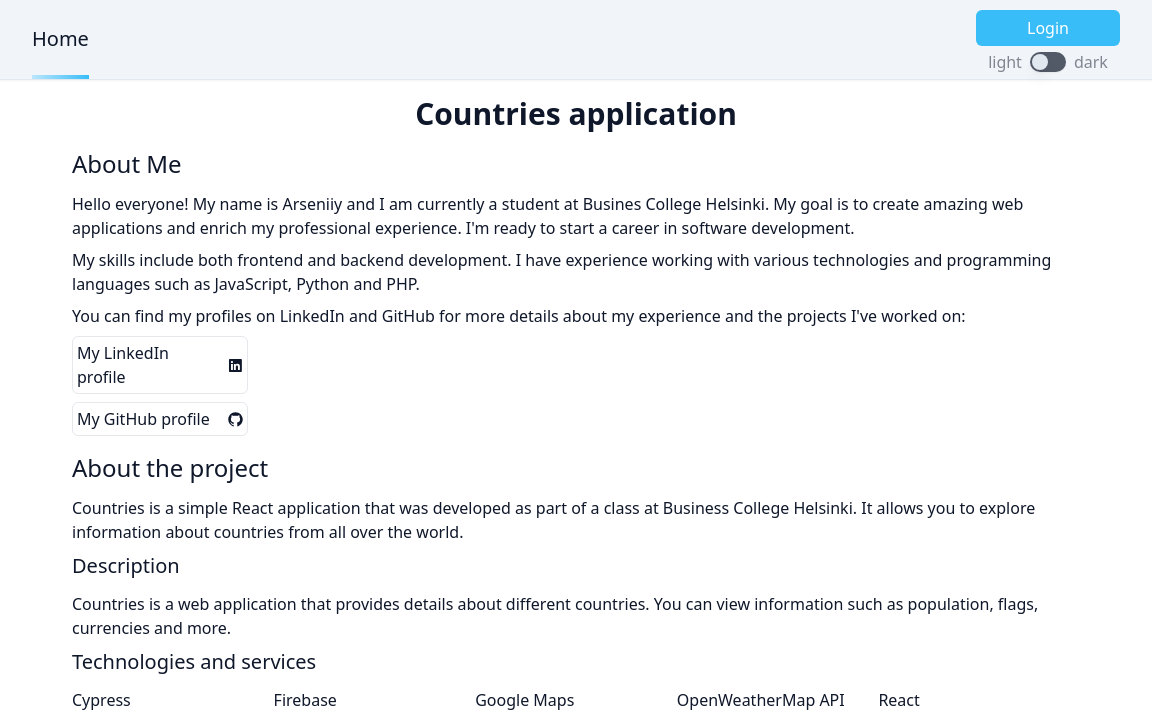
Test: Countries app for the unauthorised user › clicking on the login button opens the login page and the register button appears
Click the button with test id "login-button". click: click(1048, 28)
box: [976, 10, 1120, 46]
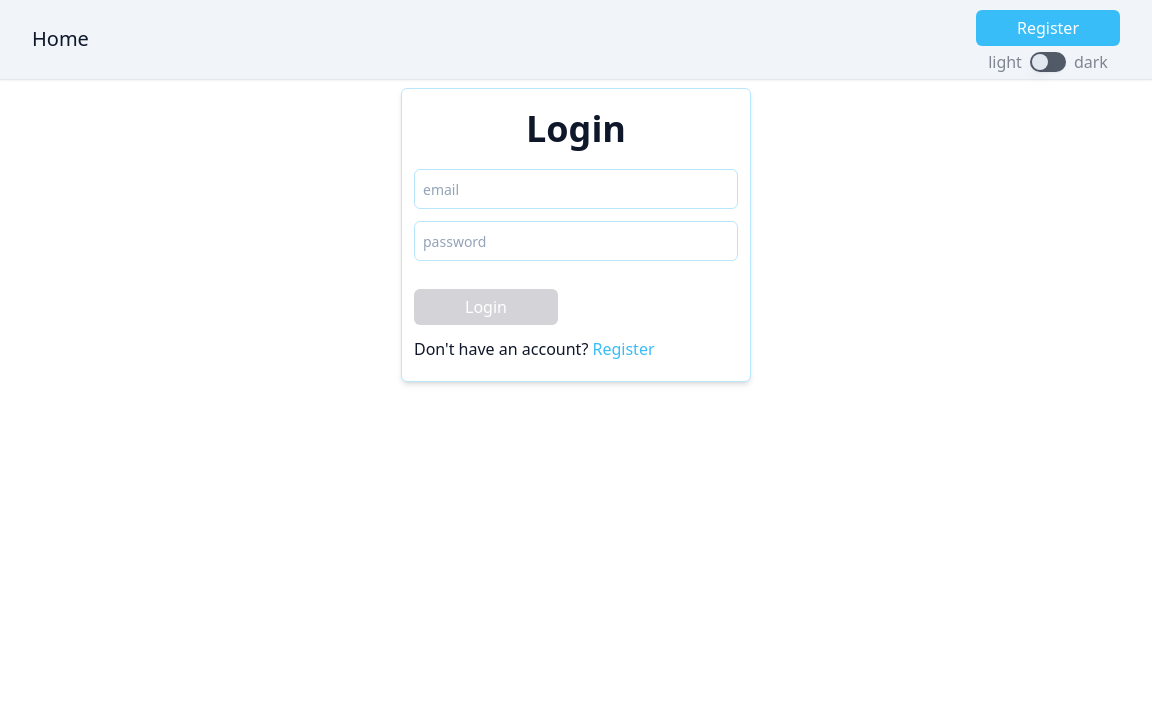
Expected: the button with test id "register-button" reads "Register", [976, 10, 1120, 46]
